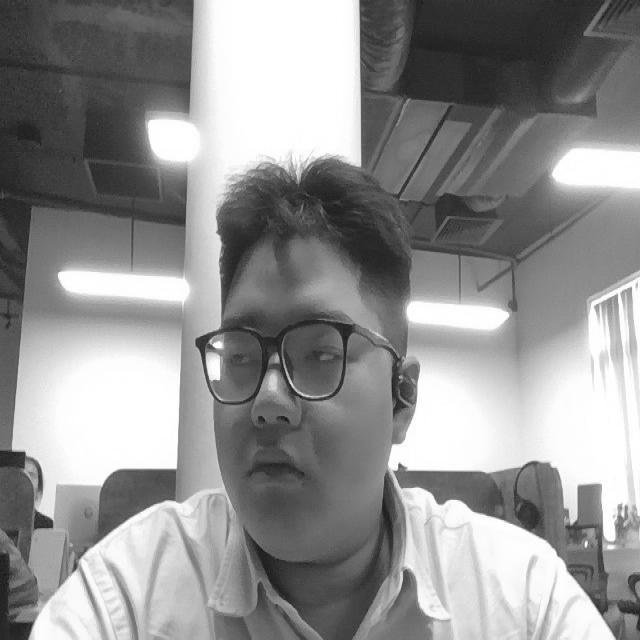real: (174, 121, 429, 580), (207, 317, 373, 385)
